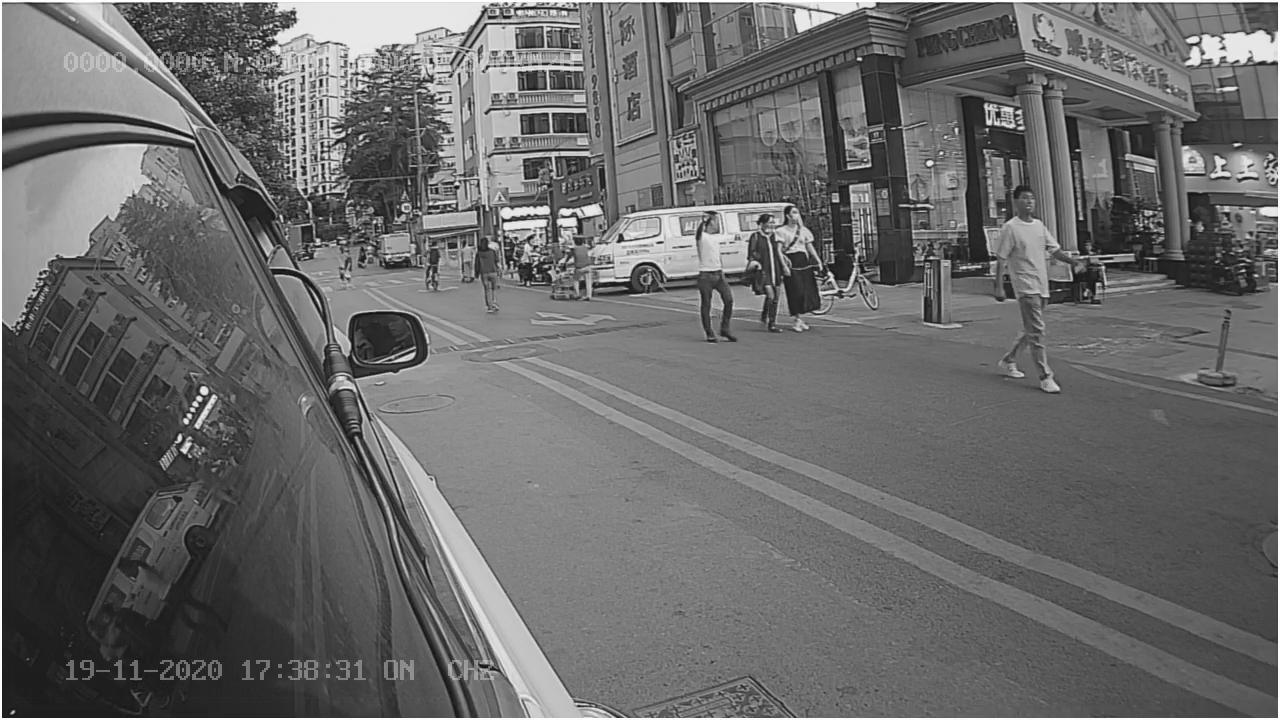person: (984, 182, 1082, 396)
